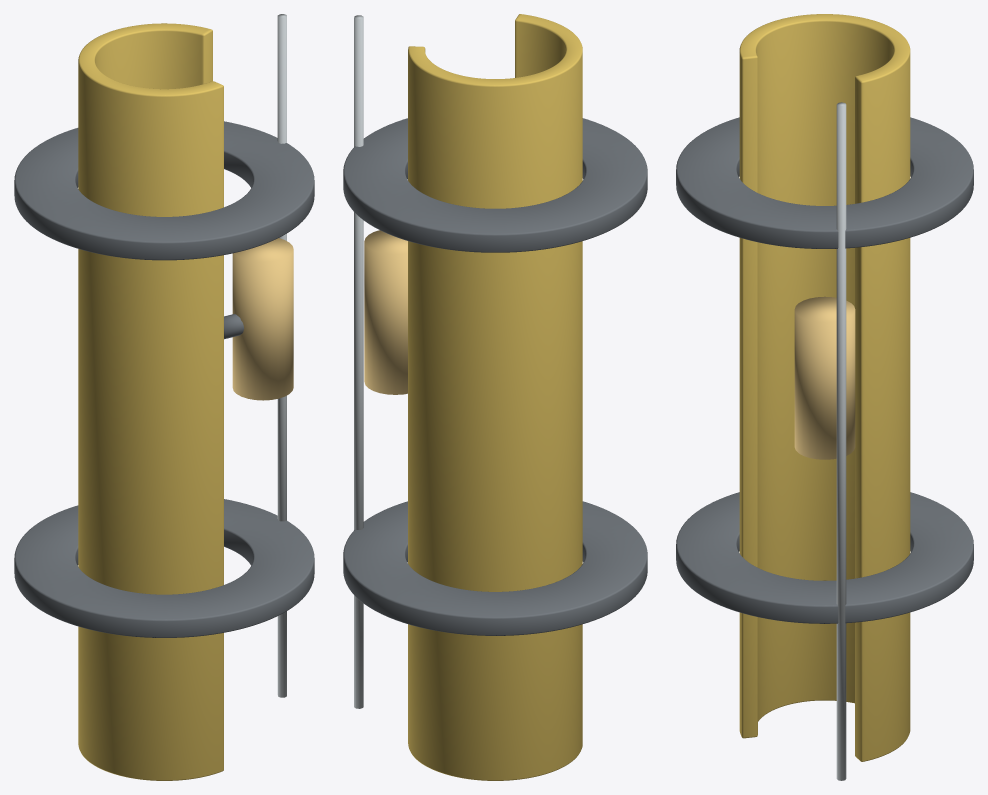
The model's file is chemical-injection-mandrel.glb.
The picture shows the model from 3 angles, left to right: view 1: azimuth 30°, elevation 25°; view 2: azimuth 150°, elevation 25°; view 3: azimuth 270°, elevation 25°; orthographic projection. The views are drawn at different scales.
Parts seen in each view (by area): view 1: Injection mandrel, Line clamp top, Line clamp bottom, Injection valve, Capillary line; view 2: Injection mandrel, Line clamp top, Line clamp bottom, Injection valve, Capillary line; view 3: Injection mandrel, Line clamp bottom, Line clamp top, Injection valve, Capillary line.
Part boxes in pixels (left/top/right/bottom): Injection mandrel: left=78, top=23, right=223, bottom=780; Line clamp top: left=14, top=121, right=314, bottom=260; Line clamp bottom: left=14, top=499, right=314, bottom=637; Injection valve: left=232, top=238, right=293, bottom=400; Capillary line: left=277, top=14, right=286, bottom=697; Injection mandrel: left=408, top=14, right=582, bottom=780; Line clamp top: left=343, top=118, right=647, bottom=252; Line clamp bottom: left=343, top=501, right=647, bottom=635; Injection valve: left=364, top=230, right=407, bottom=394; Capillary line: left=354, top=15, right=363, bottom=708; Injection mandrel: left=739, top=14, right=910, bottom=761; Line clamp bottom: left=676, top=492, right=973, bottom=623; Line clamp top: left=676, top=117, right=973, bottom=248; Injection valve: left=794, top=296, right=855, bottom=459; Capillary line: left=836, top=102, right=846, bottom=780.
Bounding box in the file's own units: 2.16 × 5.5 × 2.16.
